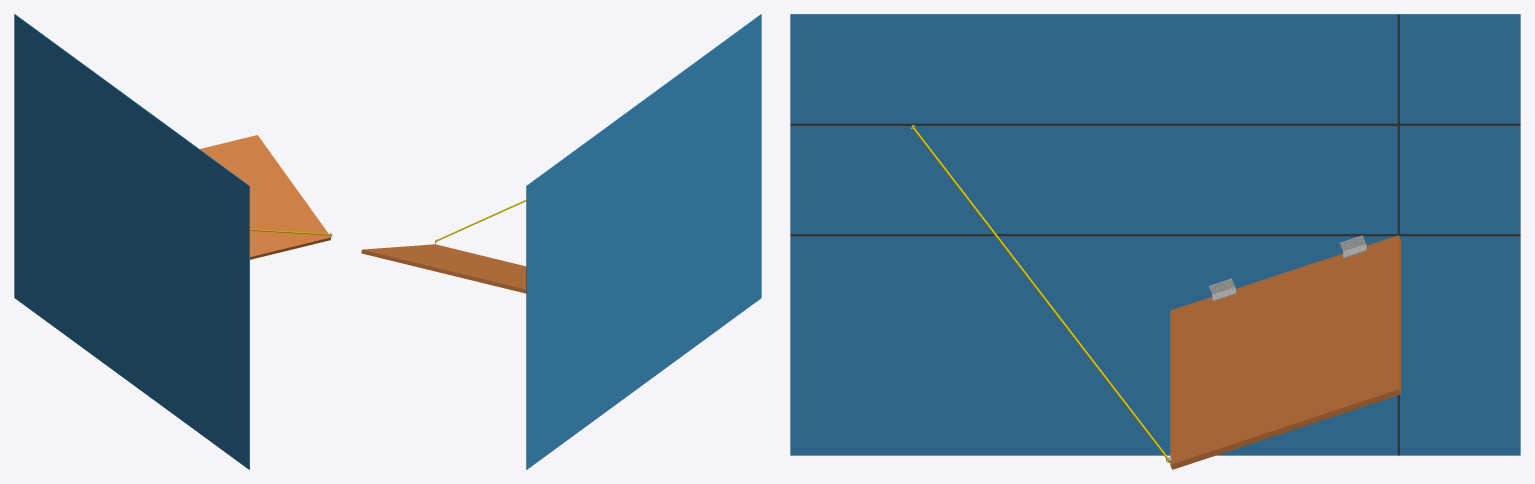
Rendered from statics_problem.fbx.
3 views of the same model, side by side, from view 1: azimuth 30°, elevation 25°; view 2: azimuth 150°, elevation 25°; view 3: azimuth 270°, elevation 25° (orthographic). The views are drawn at different scales.
Visible parts, largest first — view 1: back_wall, wooden_board; view 2: back_wall, wooden_board; view 3: back_wall, wooden_board, rope.
Boxes of the visible parts, x1=… form: back_wall: x1=14, y1=14, x2=249, y2=469; wooden_board: x1=200, y1=135, x2=330, y2=259; back_wall: x1=526, y1=14, x2=761, y2=469; wooden_board: x1=361, y1=244, x2=526, y2=293; back_wall: x1=790, y1=14, x2=1520, y2=455; wooden_board: x1=1170, y1=235, x2=1400, y2=469; rope: x1=911, y1=125, x2=1170, y2=461.
Bounding box in the file's own units: 302 × 400 × 600.
